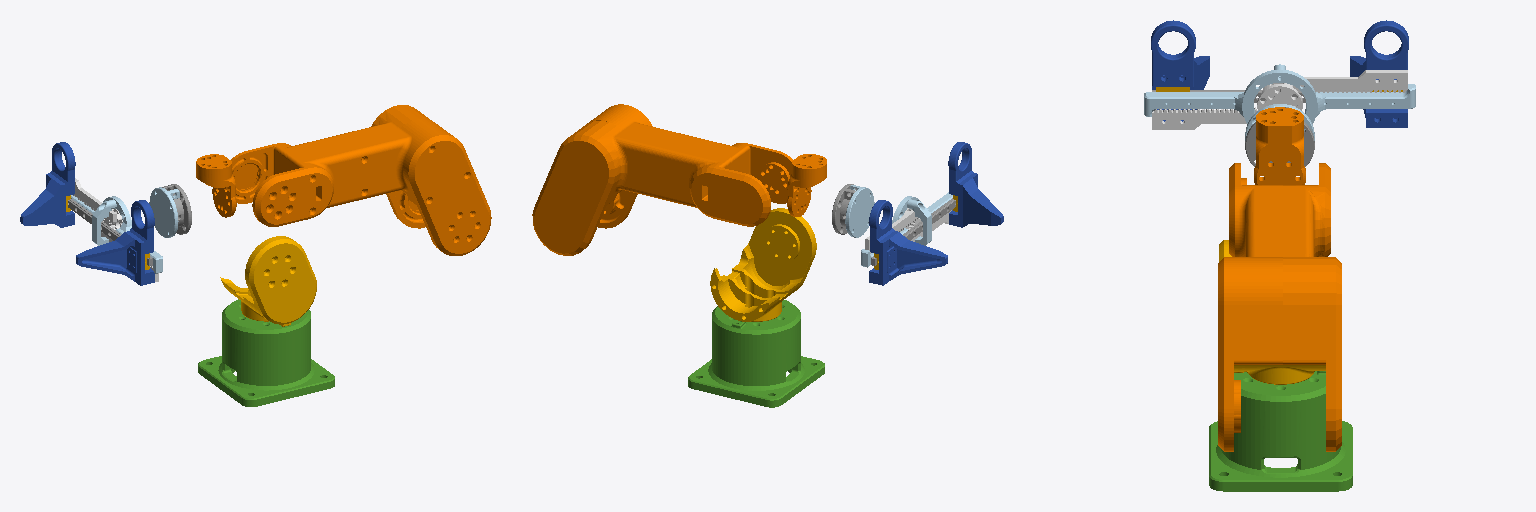
--- What the picture shows (computed from the rendered views, not written in the file) ---
The picture shows the robot from 3 angles, left to right: view 1: azimuth 30°, elevation 25°; view 2: azimuth 150°, elevation 25°; view 3: azimuth 270°, elevation 25°; orthographic projection.
Model EL-A3 with 9 links and 8 joints (6 revolute, 2 fixed), rooted at base_link, posed all joints at 0.
Visible links, largest first — view 1: l3_lnik_urdf_asm, l5_l6_urdf_asm, l1_urdf_urdf_asm, l1_link_urdf_asm, part_9; view 2: l3_lnik_urdf_asm, l5_l6_urdf_asm, l1_urdf_urdf_asm, l1_link_urdf_asm, part_9; view 3: l3_lnik_urdf_asm, l5_l6_urdf_asm, l1_urdf_urdf_asm, part_9, l1_link_urdf_asm.
Boxes of the visible links, left/top/right/bottom form: l3_lnik_urdf_asm: left=231, top=105, right=491, bottom=255; l5_l6_urdf_asm: left=20, top=142, right=191, bottom=285; l1_urdf_urdf_asm: left=198, top=299, right=334, bottom=406; l1_link_urdf_asm: left=220, top=236, right=316, bottom=326; part_9: left=196, top=154, right=236, bottom=217; l3_lnik_urdf_asm: left=532, top=104, right=792, bottom=255; l5_l6_urdf_asm: left=832, top=142, right=1003, bottom=285; l1_urdf_urdf_asm: left=688, top=300, right=824, bottom=407; l1_link_urdf_asm: left=710, top=208, right=816, bottom=321; part_9: left=787, top=154, right=826, bottom=216; l3_lnik_urdf_asm: left=1218, top=163, right=1341, bottom=451; l5_l6_urdf_asm: left=1144, top=20, right=1415, bottom=166; l1_urdf_urdf_asm: left=1209, top=371, right=1352, bottom=491; part_9: left=1254, top=107, right=1305, bottom=184; l1_link_urdf_asm: left=1219, top=240, right=1325, bottom=384.
Bounding box of the posed robot: 0.4341 × 0.18 × 0.242 m (x, y, z).
17 mesh visuals loaded from 31 distinct referenced files (17 binary STL); not drawn: 15 (reference not matched to a file when rendering).

robot.urdf — EL-A3:
<?xml version="1.0" ?>
<!-- =================================================================================== -->
<!-- |    This document was autogenerated by xacro from el_a3_description/urdf/el_a3.urdf.xacro | -->
<!-- |    EDITING THIS FILE BY HAND IS NOT RECOMMENDED                                 | -->
<!-- =================================================================================== -->
<!-- EL-A3 6-DOF Robot Arm URDF with ros2_control support -->
<!-- Updated from EDULITE-A3 model -->
<robot name="EL-A3">
  <!-- Materials -->
  <material name="orange">
    <color rgba="0.972549 0.529412 0.00392157 1"/>
  </material>
  <material name="gray">
    <color rgba="0.647059 0.647059 0.647059 1"/>
  </material>
  <material name="light_blue">
    <color rgba="0.768627 0.886275 0.952941 1"/>
  </material>
  <material name="white">
    <color rgba="0.917647 0.917647 0.917647 1"/>
  </material>
  <material name="dark_gray">
    <color rgba="0.301961 0.301961 0.301961 1"/>
  </material>
  <material name="blue">
    <color rgba="0.231373 0.380392 0.705882 1"/>
  </material>
  <material name="yellow">
    <color rgba="0.980392 0.713725 0.00392157 1"/>
  </material>
  <material name="green">
    <color rgba="0.372549 0.654902 0.239216 1"/>
  </material>
  <!-- Base link (world) -->
  <link name="base_link"/>
  <joint name="base_to_l1" type="fixed">
    <parent link="base_link"/>
    <child link="l1_urdf_urdf_asm"/>
    <origin rpy="0 0 0" xyz="0 0 0"/>
  </joint>
  <!-- Link l1_urdf_urdf_asm (Base) -->
  <link name="l1_urdf_urdf_asm">
    <inertial>
      <origin rpy="0 0 0" xyz="-2.68984e-10 1.48294e-05 -0.0220571"/>
      <mass value="0.465144"/>
      <inertia ixx="0.00032748" ixy="-1.33894e-08" ixz="-1.85358e-12" iyy="0.000321793" iyz="-2.46949e-07" izz="0.000362426"/>
    </inertial>
    <!-- Part part_10 -->
    <visual>
      <origin rpy="0 0 0" xyz="0 0 0"/>
      <geometry>
        <mesh filename="package://el_a3_description/meshes/part_10.stl"/>
      </geometry>
      <material name="green"/>
    </visual>
    <collision>
      <origin rpy="0 0 0" xyz="0 0 0"/>
      <geometry>
        <mesh filename="package://el_a3_description/meshes/part_10.stl"/>
      </geometry>
    </collision>
    <!-- Part rs00_l1 -->
    <visual>
      <origin rpy="0 0 0" xyz="0 0 0"/>
      <geometry>
        <mesh filename="package://el_a3_description/meshes/rs00_l1.stl"/>
      </geometry>
      <material name="orange"/>
    </visual>
    <collision>
      <origin rpy="0 0 0" xyz="0 0 0"/>
      <geometry>
        <mesh filename="package://el_a3_description/meshes/rs00_l1.stl"/>
      </geometry>
    </collision>
  </link>
  <!-- Link l1_link_urdf_asm -->
  <link name="l1_link_urdf_asm">
    <inertial>
      <origin rpy="0 0 0" xyz="-0.00202103 -0.00162495 0.0394318"/>
      <mass value="0.146738"/>
      <inertia ixx="0.000221617" ixy="-1.44161e-06" ixz="1.46922e-05" iyy="0.000129193" iyz="4.22954e-06" izz="0.000175411"/>
    </inertial>
    <!-- Part part_8 -->
    <visual>
      <origin rpy="0 0 0" xyz="0 0 -0.006"/>
      <geometry>
        <mesh filename="package://el_a3_description/meshes/part_8.stl"/>
      </geometry>
      <material name="yellow"/>
    </visual>
    <collision>
      <origin rpy="0 0 0" xyz="0 0 -0.006"/>
      <geometry>
        <mesh filename="package://el_a3_description/meshes/part_8.stl"/>
      </geometry>
    </collision>
    <!-- Part part_9 -->
    <visual>
      <origin rpy="0 0 0" xyz="0 0 -0.006"/>
      <geometry>
        <mesh filename="package://el_a3_description/meshes/part_9.stl"/>
      </geometry>
      <material name="yellow"/>
    </visual>
    <collision>
      <origin rpy="0 0 0" xyz="0 0 -0.006"/>
      <geometry>
        <mesh filename="package://el_a3_description/meshes/part_9.stl"/>
      </geometry>
    </collision>
  </link>
  <!-- Link l2_l3_urdf_asm -->
  <link name="l2_l3_urdf_asm">
    <inertial>
      <origin rpy="0 0 0" xyz="0.0949994 -1.38262e-06 -0.00108795"/>
      <mass value="0.946534"/>
      <inertia ixx="0.000493341" ixy="6.92125e-07" ixz="-1.27006e-08" iyy="0.00767087" iyz="2.73309e-09" izz="0.0076934"/>
    </inertial>
    <!-- Part mainlink_back -->
    <visual>
      <origin rpy="-1.5708 0 0" xyz="0.01 -0.07 -0.0001"/>
      <geometry>
        <mesh filename="package://el_a3_description/meshes/mainlink_back.stl"/>
      </geometry>
      <material name="gray"/>
    </visual>
    <collision>
      <origin rpy="-1.5708 0 0" xyz="0.01 -0.07 -0.0001"/>
      <geometry>
        <mesh filename="package://el_a3_description/meshes/mainlink_back.stl"/>
      </geometry>
    </collision>
    <!-- Part 6705 -->
    <visual>
      <origin rpy="-1.5708 0 0" xyz="0.01 -0.07 -0.0001"/>
      <geometry>
        <mesh filename="package://el_a3_description/meshes/6705.stl"/>
      </geometry>
      <material name="white"/>
    </visual>
    <collision>
      <origin rpy="-1.5708 0 0" xyz="0.01 -0.07 -0.0001"/>
      <geometry>
        <mesh filename="package://el_a3_description/meshes/6705.stl"/>
      </geometry>
    </collision>
    <!-- Part rs00_l2 -->
    <visual>
      <origin rpy="-1.5708 0 0" xyz="0.01 -0.07 -0.0006"/>
      <geometry>
        <mesh filename="package://el_a3_description/meshes/rs00_l2.stl"/>
      </geometry>
      <material name="orange"/>
    </visual>
    <collision>
      <origin rpy="-1.5708 0 0" xyz="0.01 -0.07 -0.0006"/>
      <geometry>
        <mesh filename="package://el_a3_description/meshes/rs00_l2.stl"/>
      </geometry>
    </collision>
    <!-- Part mainlink_motor -->
    <visual>
      <origin rpy="-1.5708 0 0" xyz="0.01 -0.07 -0.0006"/>
      <geometry>
        <mesh filename="package://el_a3_description/meshes/mainlink_motor.stl"/>
      </geometry>
      <material name="gray"/>
    </visual>
    <collision>
      <origin rpy="-1.5708 0 0" xyz="0.01 -0.07 -0.0006"/>
      <geometry>
        <mesh filename="package://el_a3_description/meshes/mainlink_motor.stl"/>
      </geometry>
    </collision>
    <!-- Part 6705_2 -->
    <visual>
      <origin rpy="-1.5708 0 0" xyz="0.01 -0.07 -0.0001"/>
      <geometry>
        <mesh filename="package://el_a3_description/meshes/6705__2.stl"/>
      </geometry>
      <material name="blue"/>
    </visual>
    <collision>
      <origin rpy="-1.5708 0 0" xyz="0.01 -0.07 -0.0001"/>
      <geometry>
        <mesh filename="package://el_a3_description/meshes/6705__2.stl"/>
      </geometry>
    </collision>
    <!-- Part rs00_l3 -->
    <visual>
      <origin rpy="-1.5708 0 0" xyz="0.01 -0.07 -0.0006"/>
      <geometry>
        <mesh filename="package://el_a3_description/meshes/rs00_l3.stl"/>
      </geometry>
      <material name="orange"/>
    </visual>
    <collision>
      <origin rpy="-1.5708 0 0" xyz="0.01 -0.07 -0.0006"/>
      <geometry>
        <mesh filename="package://el_a3_description/meshes/rs00_l3.stl"/>
      </geometry>
    </collision>
  </link>
  <!-- Link l3_lnik_urdf_asm -->
  <link name="l3_lnik_urdf_asm">
    <inertial>
      <origin rpy="0 0 0" xyz="-0.0693243 0.0530595 -0.0510805"/>
      <mass value="0.406558"/>
      <inertia ixx="0.000554036" ixy="0.000274809" ixz="4.74842e-06" iyy="0.00189339" iyz="7.79959e-06" izz="0.00192037"/>
    </inertial>
    <!-- Part small_arm_right -->
    <visual>
      <origin rpy="-1.5708 0 0" xyz="-0.18 -0.07 -0.0518"/>
      <geometry>
        <mesh filename="package://el_a3_description/meshes/small_arm_right.stl"/>
      </geometry>
      <material name="orange"/>
    </visual>
    <collision>
      <origin rpy="-1.5708 0 0" xyz="-0.18 -0.07 -0.0518"/>
      <geometry>
        <mesh filename="package://el_a3_description/meshes/small_arm_right.stl"/>
      </geometry>
    </collision>
    <!-- Part small_arm_left -->
    <visual>
      <origin rpy="-1.5708 0 0" xyz="-0.18 -0.07 -0.0518"/>
      <geometry>
        <mesh filename="package://el_a3_description/meshes/small_arm_left.stl"/>
      </geometry>
      <material name="orange"/>
    </visual>
    <collision>
      <origin rpy="-1.5708 0 0" xyz="-0.18 -0.07 -0.0518"/>
      <geometry>
        <mesh filename="package://el_a3_description/meshes/small_arm_left.stl"/>
      </geometry>
    </collision>
  </link>
  <!-- Link l4_l5_urdf_asm -->
  <link name="l4_l5_urdf_asm">
    <inertial>
      <origin rpy="0 0 0" xyz="-0.0241077 0.0297756 -0.000254349"/>
      <mass value="0.44692"/>
      <inertia ixx="0.000543249" ixy="0.000320527" ixz="2.88671e-06" iyy="0.00040341" iyz="-3.57587e-06" izz="0.000797799"/>
    </inertial>
    <!-- Part el05_l5 -->
    <visual>
      <origin rpy="-1.5708 0 0" xyz="0.005 -0.134 0"/>
      <geometry>
        <mesh filename="package://el_a3_description/meshes/el05_l5.stl"/>
      </geometry>
      <material name="white"/>
    </visual>
    <collision>
      <origin rpy="-1.5708 0 0" xyz="0.005 -0.134 0"/>
      <geometry>
        <mesh filename="package://el_a3_description/meshes/el05_l5.stl"/>
      </geometry>
    </collision>
    <!-- Part l5_shake -->
    <visual>
      <origin rpy="-1.5708 0 0" xyz="0.005 -0.134 0"/>
      <geometry>
        <mesh filename="package://el_a3_description/meshes/l5_shake.stl"/>
      </geometry>
      <material name="light_blue"/>
    </visual>
    <collision>
      <origin rpy="-1.5708 0 0" xyz="0.005 -0.134 0"/>
      <geometry>
        <mesh filename="package://el_a3_description/meshes/l5_shake.stl"/>
      </geometry>
    </collision>
    <!-- Part l4_l5_link_back -->
    <visual>
      <origin rpy="-1.5708 0 0" xyz="0.005 -0.134 0"/>
      <geometry>
        <mesh filename="package://el_a3_description/meshes/l4_l5_link_back.stl"/>
      </geometry>
      <material name="orange"/>
    </visual>
    <collision>
      <origin rpy="-1.5708 0 0" xyz="0.005 -0.134 0"/>
      <geometry>
        <mesh filename="package://el_a3_description/meshes/l4_l5_link_back.stl"/>
      </geometry>
    </collision>
    <!-- Part el05_l4 -->
    <visual>
      <origin rpy="-1.5708 0 0" xyz="0.005 -0.134 0"/>
      <geometry>
        <mesh filename="package://el_a3_description/meshes/el05_l4.stl"/>
      </geometry>
      <material name="white"/>
    </visual>
    <collision>
      <origin rpy="-1.5708 0 0" xyz="0.005 -0.134 0"/>
      <geometry>
        <mesh filename="package://el_a3_description/meshes/el05_l4.stl"/>
      </geometry>
    </collision>
    <!-- Part l4_l5_link_back_2 -->
    <visual>
      <origin rpy="-1.5708 0 0" xyz="0.005 -0.134 0"/>
      <geometry>
        <mesh filename="package://el_a3_description/meshes/l4_l5_link_back__2.stl"/>
      </geometry>
      <material name="orange"/>
    </visual>
    <collision>
      <origin rpy="-1.5708 0 0" xyz="0.005 -0.134 0"/>
      <geometry>
        <mesh filename="package://el_a3_description/meshes/l4_l5_link_back__2.stl"/>
      </geometry>
    </collision>
  </link>
  <!-- Link part_9 -->
  <link name="part_9">
    <inertial>
      <origin rpy="0 0 0" xyz="0.00409255 0 0.0175119"/>
      <mass value="0.0179457"/>
      <inertia ixx="5.21252e-06" ixy="0" ixz="-1.22446e-06" iyy="5.09672e-06" iyz="0" izz="2.51083e-06"/>
    </inertial>
    <!-- Part part_9_2 -->
    <visual>
      <origin rpy="3.14159 0 0" xyz="0.0542 0 0.172"/>
      <geometry>
        <mesh filename="package://el_a3_description/meshes/part_9__2.stl"/>
      </geometry>
      <material name="orange"/>
    </visual>
    <collision>
      <origin rpy="3.14159 0 0" xyz="0.0542 0 0.172"/>
      <geometry>
        <mesh filename="package://el_a3_description/meshes/part_9__2.stl"/>
      </geometry>
    </collision>
  </link>
  <!-- Link l5_l6_urdf_asm (End Effector) -->
  <link name="l5_l6_urdf_asm">
    <inertial>
      <origin rpy="0 0 0" xyz="-1.16996e-05 0.000627615 -0.0701883"/>
      <mass value="0.5317"/>
      <inertia ixx="0.00100405" ixy="-4.97095e-06" ixz="1.06714e-07" iyy="0.00139953" iyz="1.65952e-05" izz="0.00054217"/>
    </inertial>
    <!-- Part part_4 -->
    <visual>
      <origin rpy="3.14159 -1.5708 0" xyz="0 0 -0.062"/>
      <geometry>
        <mesh filename="package://el_a3_description/meshes/part_4.stl"/>
      </geometry>
      <material name="gray"/>
    </visual>
    <collision>
      <origin rpy="3.14159 -1.5708 0" xyz="0 0 -0.062"/>
      <geometry>
        <mesh filename="package://el_a3_description/meshes/part_4.stl"/>
      </geometry>
    </collision>
    <!-- Part hand_r -->
    <visual>
      <origin rpy="3.14159 0 0" xyz="0 0 -0.0755"/>
      <geometry>
        <mesh filename="package://el_a3_description/meshes/hand_r.stl"/>
      </geometry>
      <material name="blue"/>
    </visual>
    <collision>
      <origin rpy="3.14159 0 0" xyz="0 0 -0.0755"/>
      <geometry>
        <mesh filename="package://el_a3_description/meshes/hand_r.stl"/>
      </geometry>
    </collision>
    <!-- Part el05 -->
    <visual>
      <origin rpy="-3.14159 0 0" xyz="0 0 -0.0755"/>
      <geometry>
        <mesh filename="package://el_a3_description/meshes/el05.stl"/>
      </geometry>
      <material name="white"/>
    </visual>
    <collision>
      <origin rpy="-3.14159 0 0" xyz="0 0 -0.0755"/>
      <geometry>
        <mesh filename="package://el_a3_description/meshes/el05.stl"/>
      </geometry>
    </collision>
    <!-- Part rack__30_teeth -->
    <visual>
      <origin rpy="-3.14159 0 0" xyz="0 0 -0.0755"/>
      <geometry>
        <mesh filename="package://el_a3_description/meshes/rack__30_teeth.stl"/>
      </geometry>
      <material name="white"/>
    </visual>
    <collision>
      <origin rpy="-3.14159 0 0" xyz="0 0 -0.0755"/>
      <geometry>
        <mesh filename="package://el_a3_description/meshes/rack__30_teeth.stl"/>
      </geometry>
    </collision>
    <!-- Part manifold_solid_brep_39_1 -->
    <visual>
      <origin rpy="-3.14159 0 0" xyz="0.003 0 -0.0755"/>
      <geometry>
        <mesh filename="package://el_a3_description/meshes/manifold_solid_brep_39_1.stl"/>
      </geometry>
      <material name="yellow"/>
    </visual>
    <collision>
      <origin rpy="-3.14159 0 0" xyz="0.003 0 -0.0755"/>
      <geometry>
        <mesh filename="package://el_a3_description/meshes/manifold_solid_brep_39_1.stl"/>
      </geometry>
    </collision>
    <!-- Part rack__30_teeth_2 -->
    <visual>
      <origin rpy="-3.14159 0 0" xyz="0 0 -0.0755"/>
      <geometry>
        <mesh filename="package://el_a3_description/meshes/rack__30_teeth__2.stl"/>
      </geometry>
      <material name="white"/>
    </visual>
    <collision>
      <origin rpy="-3.14159 0 0" xyz="0 0 -0.0755"/>
      <geometry>
        <mesh filename="package://el_a3_description/meshes/rack__30_teeth__2.stl"/>
      </geometry>
    </collision>
    <!-- Part manifold_solid_brep_39_1_2 -->
    <visual>
      <origin rpy="-3.14159 0 0" xyz="-0.003 0 -0.0755"/>
      <geometry>
        <mesh filename="package://el_a3_description/meshes/manifold_solid_brep_39_1__2.stl"/>
      </geometry>
      <material name="yellow"/>
    </visual>
    <collision>
      <origin rpy="-3.14159 0 0" xyz="-0.003 0 -0.0755"/>
      <geometry>
        <mesh filename="package://el_a3_description/meshes/manifold_solid_brep_39_1__2.stl"/>
      </geometry>
    </collision>
    <!-- Part rack_base -->
    <visual>
      <origin rpy="-3.14159 0 0" xyz="0 0 -0.0755"/>
      <geometry>
        <mesh filename="package://el_a3_description/meshes/rack_base.stl"/>
      </geometry>
      <material name="light_blue"/>
    </visual>
    <collision>
      <origin rpy="-3.14159 0 0" xyz="0 0 -0.0755"/>
      <geometry>
        <mesh filename="package://el_a3_description/meshes/rack_base.stl"/>
      </geometry>
    </collision>
    <!-- Part rack_str -->
    <visual>
      <origin rpy="-3.14159 0 0" xyz="0 0 -0.0755"/>
      <geometry>
        <mesh filename="package://el_a3_description/meshes/rack_str.stl"/>
      </geometry>
      <material name="light_blue"/>
    </visual>
    <collision>
      <origin rpy="-3.14159 0 0" xyz="0 0 -0.0755"/>
      <geometry>
        <mesh filename="package://el_a3_description/meshes/rack_str.stl"/>
      </geometry>
    </collision>
    <!-- Part part_3 -->
    <visual>
      <origin rpy="3.14159 -1.5708 0" xyz="0 0 -0.062"/>
      <geometry>
        <mesh filename="package://el_a3_description/meshes/part_3.stl"/>
      </geometry>
      <material name="light_blue"/>
    </visual>
    <collision>
      <origin rpy="3.14159 -1.5708 0" xyz="0 0 -0.062"/>
      <geometry>
        <mesh filename="package://el_a3_description/meshes/part_3.stl"/>
      </geometry>
    </collision>
    <!-- Part el05_2 -->
    <visual>
      <origin rpy="0 0 0" xyz="0 0 -0.0305"/>
      <geometry>
        <mesh filename="package://el_a3_description/meshes/el05.stl"/>
      </geometry>
      <material name="white"/>
    </visual>
    <collision>
      <origin rpy="0 0 0" xyz="0 0 -0.0305"/>
      <geometry>
        <mesh filename="package://el_a3_description/meshes/el05.stl"/>
      </geometry>
    </collision>
    <!-- Part spur_gear__14_teeth -->
    <visual>
      <origin rpy="-3.14159 0 0" xyz="0 0 -0.0755"/>
      <geometry>
        <mesh filename="package://el_a3_description/meshes/spur_gear__14_teeth.stl"/>
      </geometry>
      <material name="white"/>
    </visual>
    <collision>
      <origin rpy="-3.14159 0 0" xyz="0 0 -0.0755"/>
      <geometry>
        <mesh filename="package://el_a3_description/meshes/spur_gear__14_teeth.stl"/>
      </geometry>
    </collision>
    <!-- Part part_15 -->
    <visual>
      <origin rpy="-3.14159 0 0" xyz="0 0 -0.0755"/>
      <geometry>
        <mesh filename="package://el_a3_description/meshes/part_15.stl"/>
      </geometry>
      <material name="blue"/>
    </visual>
    <collision>
      <origin rpy="-3.14159 0 0" xyz="0 0 -0.0755"/>
      <geometry>
        <mesh filename="package://el_a3_description/meshes/part_15.stl"/>
      </geometry>
    </collision>
    <!-- Part manifold_solid_brep_40_1 -->
    <visual>
      <origin rpy="-3.14159 0 0" xyz="0 0 -0.0755"/>
      <geometry>
        <mesh filename="package://el_a3_description/meshes/manifold_solid_brep_40_1.stl"/>
      </geometry>
      <material name="gray"/>
    </visual>
    <collision>
      <origin rpy="-3.14159 0 0" xyz="0 0 -0.0755"/>
      <geometry>
        <mesh filename="package://el_a3_description/meshes/manifold_solid_brep_40_1.stl"/>
      </geometry>
    </collision>
  </link>
  <!-- End Effector link -->
  <link name="end_effector"/>
  <!-- Joints -->
  <!-- Joint L1 (RS00 Motor 1) -->
  <joint name="L1_joint" type="revolute">
    <origin rpy="0 0 0" xyz="0 0 0.006"/>
    <parent link="l1_urdf_urdf_asm"/>
    <child link="l1_link_urdf_asm"/>
    <axis xyz="0 0 1"/>
    <limit effort="14" lower="-2.79253" upper="2.79253" velocity="33"/>
    <dynamics damping="0.1" friction="0.1"/>
  </joint>
  <!-- Joint L2 (RS00 Motor 2) -->
  <joint name="L2_joint" type="revolute">
    <origin rpy="1.5708 0 0" xyz="-0.01 -0.0006 0.064"/>
    <parent link="l1_link_urdf_asm"/>
    <child link="l2_l3_urdf_asm"/>
    <axis xyz="0 0 1"/>
    <limit effort="14" lower="0" upper="3.66519" velocity="33"/>
    <dynamics damping="0.1" friction="0.1"/>
  </joint>
  <!-- Joint L3 (RS00 Motor 3) -->
  <joint name="L3_joint" type="revolute">
    <origin rpy="0 0 0" xyz="0.19 0 0.0518"/>
    <parent link="l2_l3_urdf_asm"/>
    <child link="l3_lnik_urdf_asm"/>
    <axis xyz="0 0 1"/>
    <limit effort="14" lower="-4.01426" upper="0" velocity="33"/>
    <dynamics damping="0.1" friction="0.1"/>
  </joint>
  <!-- Joint L4 (EL05 Motor 4) -->
  <joint name="L4_joint" type="revolute">
    <origin rpy="0 0 0" xyz="-0.185 0.064 -0.0518"/>
    <parent link="l3_lnik_urdf_asm"/>
    <child link="l4_l5_urdf_asm"/>
    <axis xyz="0 0 1"/>
    <limit effort="6.0" lower="-1.5708" upper="1.5708" velocity="50"/>
    <dynamics damping="0.05" friction="0.05"/>
  </joint>
  <!-- Joint L5 (EL05 Motor 5) -->
  <joint name="L5_joint" type="revolute">
    <origin rpy="1.5708 0 0" xyz="-0.0492 0.038 0"/>
    <parent link="l4_l5_urdf_asm"/>
    <child link="part_9"/>
    <axis xyz="0 0 1"/>
    <limit effort="6.0" lower="-1.5708" upper="1.5708" velocity="50"/>
    <dynamics damping="0.05" friction="0.05"/>
  </joint>
  <!-- Joint L6 (EL05 Motor 6) -->
  <joint name="L6_joint" type="revolute">
    <origin rpy="-1.5708 0 -1.5708" xyz="0.00805 0 0.038"/>
    <parent link="part_9"/>
    <child link="l5_l6_urdf_asm"/>
    <axis xyz="0 0 1"/>
    <limit effort="6.0" lower="-1.5708" upper="1.5708" velocity="50"/>
    <dynamics damping="0.05" friction="0.05"/>
  </joint>
  <!-- End Effector joint -->
  <joint name="end_effector_joint" type="fixed">
    <origin rpy="0 0 0" xyz="0 0 -0.074"/>
    <parent link="l5_l6_urdf_asm"/>
    <child link="end_effector"/>
  </joint>
  <ros2_control name="RsA3System" type="system">
    <hardware>
      <plugin>el_a3_hardware/RsA3HardwareInterface</plugin>
      <param name="can_interface">can0</param>
      <param name="host_can_id">253</param>
      <param name="position_kp">80.0</param>
      <param name="position_kd">4.0</param>
      <param name="velocity_limit">10.0</param>
      <!-- S曲线轨迹规划参数 -->
      <param name="s_curve_enabled">false</param>
      <!-- 暂时禁用，避免与MoveIt轨迹冲突 -->
      <param name="max_velocity">3.0</param>
      <!-- 最大速度限制 rad/s -->
      <param name="max_acceleration">15.0</param>
      <!-- 最大加速度限制 rad/s² -->
      <param name="max_jerk">50.0</param>
      <!-- 最大加加速度限制 rad/s³ -->
      <!-- 后备平滑滤波参数（S曲线禁用时使用） -->
      <param name="smoothing_alpha">0.2</param>
      <!-- 低通滤波系数 -->
      <!-- 重力补偿前馈参数 (50%重力作为前馈力矩) -->
      <param name="gravity_feedforward_ratio">0.5</param>
      <!-- 50%重力补偿比例 -->
      <!-- 零力矩模式参数 -->
      <param name="zero_torque_kd">0.1</param>
      <!-- 零力矩模式阻尼系数 -->
      <!-- Pinocchio 动力学模型配置 -->
      <!-- 注意：需要设置 URDF 文件的绝对路径 -->
      <param name="urdf_path">[local-path]/RS/A3/el_a3_description/urdf/el_a3.urdf</param>
      <param name="use_pinocchio_gravity">true</param>
      <!-- 启用完整动力学重力补偿 -->
      <!-- 惯性参数配置文件路径（通过 inertia_calibration.py 标定生成） -->
      <param name="inertia_config_path">[local-path]/RS/A3/el_a3_description/config/inertia_params.yaml</param>
      <!-- 惯性参数缩放因子（旧方式，保留向后兼容） -->
      <param name="inertia_scale_L1_mass">1.0000</param>
      <param name="inertia_scale_L2_mass">2.0000</param>
      <param name="inertia_scale_L3_mass">0.6839</param>
      <param name="inertia_scale_L4_mass">0.3500</param>
      <param name="inertia_scale_L5_mass">1.0000</param>
      <param name="inertia_scale_L6_mass">1.0000</param>
      <!-- L1关节 - 基座绕Z轴旋转，无重力影响 -->
      <param name="gravity_comp_L1_sin">0.0</param>
      <param name="gravity_comp_L1_cos">0.0</param>
      <param name="gravity_comp_L1_offset">0.0</param>
      <!-- L2关节 - 大臂俯仰，承受主要重力负载 -->
      <!-- τ = m*g*L*sin(θ)，需根据实际测量标定 -->
      <param name="gravity_comp_L2_sin">3.5</param>
      <param name="gravity_comp_L2_cos">0.0</param>
      <param name="gravity_comp_L2_offset">0.0</param>
      <!-- L3关节 - 小臂俯仰 -->
      <param name="gravity_comp_L3_sin">2.0</param>
      <param name="gravity_comp_L3_cos">0.0</param>
      <param name="gravity_comp_L3_offset">0.0</param>
      <!-- L4关节 - 腕部Roll -->
      <param name="gravity_comp_L4_sin">0.0</param>
      <param name="gravity_comp_L4_cos">0.0</param>
      <param name="gravity_comp_L4_offset">0.0</param>
      <!-- L5关节 - 腕部Pitch -->
      <param name="gravity_comp_L5_sin">0.3</param>
      <param name="gravity_comp_L5_cos">0.0</param>
      <param name="gravity_comp_L5_offset">0.0</param>
      <!-- L6关节 - 腕部Yaw -->
      <param name="gravity_comp_L6_sin">0.0</param>
      <param name="gravity_comp_L6_cos">0.0</param>
      <param name="gravity_comp_L6_offset">0.0</param>
    </hardware>
    <!-- Joint L1 - RS00 Motor 1 -->
    <joint name="L1_joint">
      <param name="motor_id">1</param>
      <param name="motor_type">RS00</param>
      <param name="position_offset">0.0</param>
      <param name="direction">-1.0</param>
      <command_interface name="position">
        <param name="min">-2.79253</param>
        <param name="max">2.79253</param>
      </command_interface>
      <command_interface name="velocity">
        <param name="min">-33.0</param>
        <param name="max">33.0</param>
      </command_interface>
      <command_interface name="effort">
        <param name="min">-14.0</param>
        <param name="max">14.0</param>
      </command_interface>
      <state_interface name="position"/>
      <state_interface name="velocity"/>
      <state_interface name="effort"/>
    </joint>
    <!-- Joint L2 - RS00 Motor 2 -->
    <joint name="L2_joint">
      <param name="motor_id">2</param>
      <param name="motor_type">RS00</param>
      <param name="position_offset">0.0</param>
      <param name="direction">1.0</param>
      <command_interface name="position">
        <param name="min">0</param>
        <param name="max">3.66519</param>
      </command_interface>
      <command_interface name="velocity">
        <param name="min">-33.0</param>
        <param name="max">33.0</param>
      </command_interface>
      <command_interface name="effort">
        <param name="min">-14.0</param>
        <param name="max">14.0</param>
      </command_interface>
      <state_interface name="position"/>
      <state_interface name="velocity"/>
      <state_interface name="effort"/>
    </joint>
    <!-- Joint L3 - RS00 Motor 3 -->
    <joint name="L3_joint">
      <param name="motor_id">3</param>
      <param name="motor_type">RS00</param>
      <param name="position_offset">0.0</param>
      <param name="direction">-1.0</param>
      <command_interface name="position">
        <param name="min">-4.01426</param>
        <param name="max">0</param>
      </command_interface>
      <command_interface name="velocity">
        <param name="min">-33.0</param>
        <param name="max">33.0</param>
      </command_interface>
      <command_interface name="effort">
        <param name="min">-14.0</param>
        <param name="max">14.0</param>
      </command_interface>
      <state_interface name="position"/>
      <state_interface name="velocity"/>
      <state_interface name="effort"/>
    </joint>
    <!-- Joint L4 - EL05 Motor 4 -->
    <joint name="L4_joint">
      <param name="motor_id">4</param>
      <param name="motor_type">EL05</param>
      <param name="position_offset">0.0</param>
      <param name="direction">1.0</param>
      <command_interface name="position">
        <param name="min">-1.5708</param>
        <param name="max">1.5708</param>
      </command_interface>
      <command_interface name="velocity">
        <param name="min">-50.0</param>
        <param name="max">50.0</param>
      </command_interface>
      <command_interface name="effort">
        <param name="min">-6.0</param>
        <param name="max">6.0</param>
      </command_interface>
      <state_interface name="position"/>
      <state_interface name="velocity"/>
      <state_interface name="effort"/>
    </joint>
    <!-- Joint L5 - EL05 Motor 5 -->
    <joint name="L5_joint">
      <param name="motor_id">5</param>
      <param name="motor_type">EL05</param>
      <param name="position_offset">0.0</param>
      <param name="direction">-1.0</param>
      <command_interface name="position">
        <param name="min">-1.5708</param>
        <param name="max">1.5708</param>
      </command_interface>
      <command_interface name="velocity">
        <param name="min">-50.0</param>
        <param name="max">50.0</param>
      </command_interface>
      <command_interface name="effort">
        <param name="min">-6.0</param>
        <param name="max">6.0</param>
      </command_interface>
      <state_interface name="position"/>
      <state_interface name="velocity"/>
      <state_interface name="effort"/>
    </joint>
    <!-- Joint L6 - EL05 Motor 6 -->
    <joint name="L6_joint">
      <param name="motor_id">6</param>
      <param name="motor_type">EL05</param>
      <param name="position_offset">0.0</param>
      <param name="direction">1.0</param>
      <command_interface name="position">
        <param name="min">-1.5708</param>
        <param name="max">1.5708</param>
      </command_interface>
      <command_interface name="velocity">
        <param name="min">-50.0</param>
        <param name="max">50.0</param>
      </command_interface>
      <command_interface name="effort">
        <param name="min">-6.0</param>
        <param name="max">6.0</param>
      </command_interface>
      <state_interface name="position"/>
      <state_interface name="velocity"/>
      <state_interface name="effort"/>
    </joint>
  </ros2_control>
</robot>
